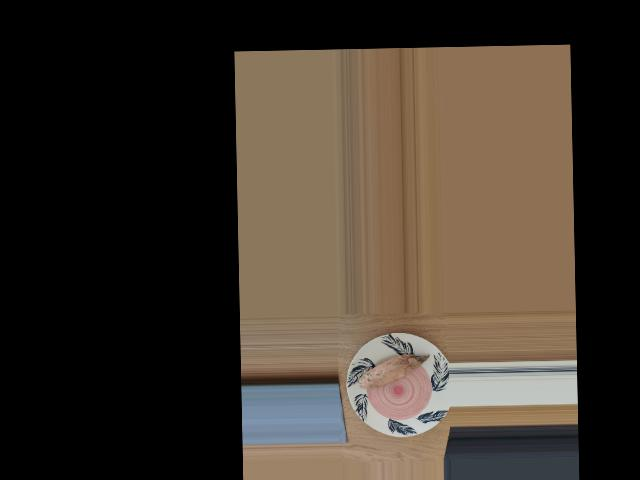sweet_potato: (362, 353, 422, 391)
